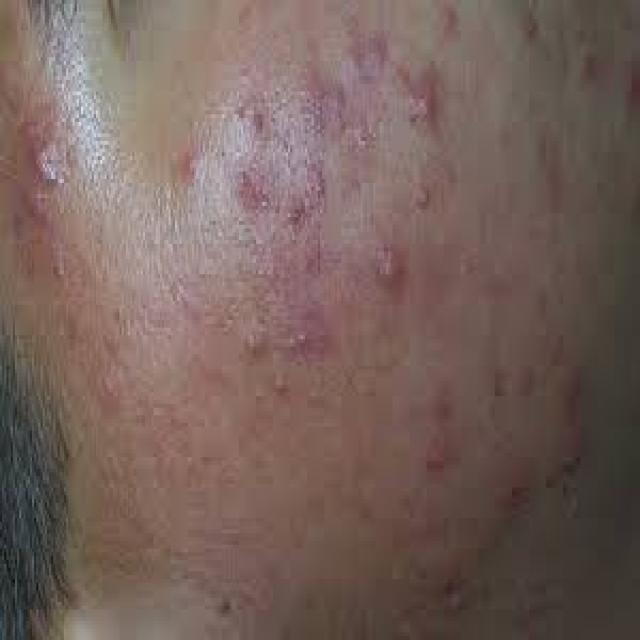Acne: (282, 162, 330, 236), (396, 60, 441, 132), (303, 79, 346, 141), (21, 130, 66, 189), (286, 301, 331, 358), (345, 25, 387, 86), (11, 186, 55, 243), (231, 162, 273, 216), (369, 239, 410, 291), (420, 436, 450, 485), (175, 146, 202, 184)
